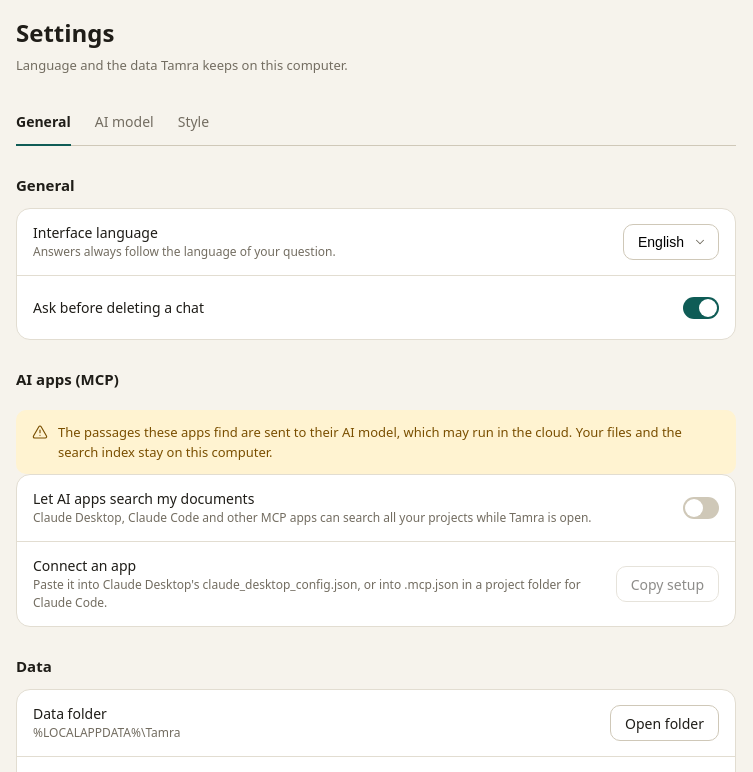
Test: General tab › saves the interface language and renders every string in Thai at once
Step 1. Select "ไทย" in the dropdown named "Interface language" → (671, 242), box [623,224,719,260]
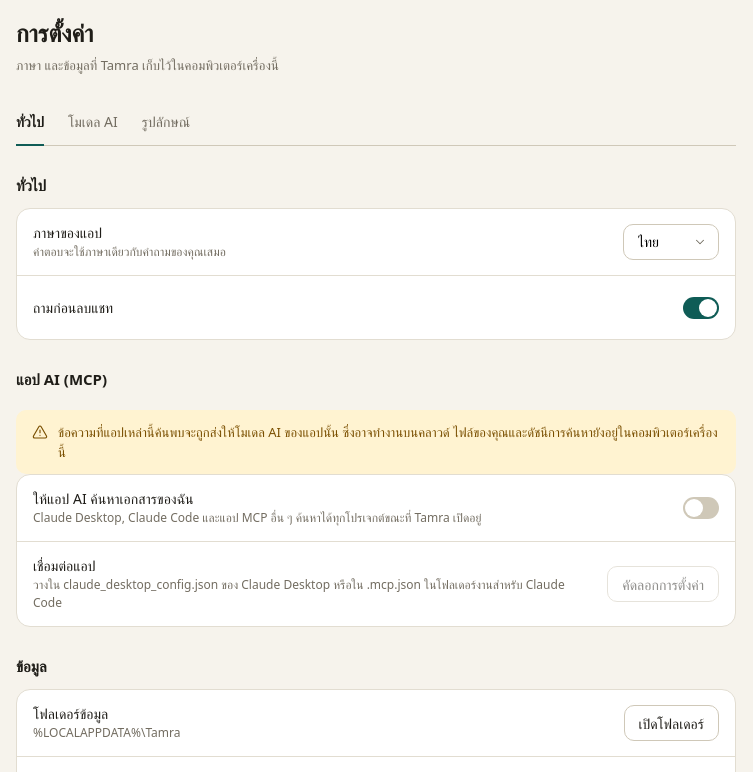
Expected: the heading "การตั้งค่า" is shown, [16,16,93,49]
